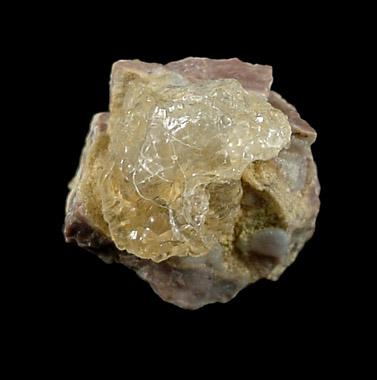opal: (102, 61, 292, 262)
